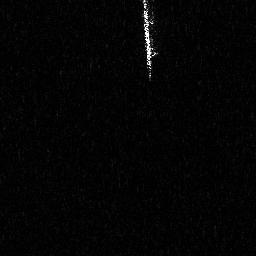ship: (135, 1, 159, 81)
